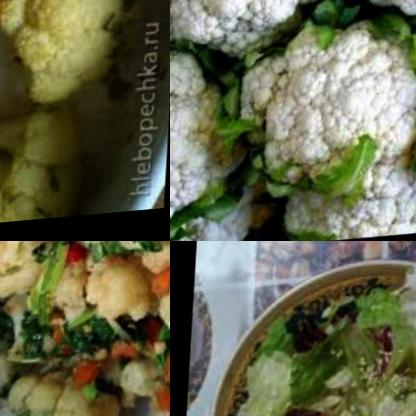cayliflower: (218, 11, 416, 196), (170, 35, 258, 229), (0, 0, 145, 117), (30, 250, 167, 354), (272, 146, 416, 241), (0, 98, 102, 230), (170, 0, 334, 74), (0, 349, 131, 416), (170, 193, 270, 241), (0, 241, 74, 302), (103, 241, 170, 271)
salad: (217, 286, 416, 416)
